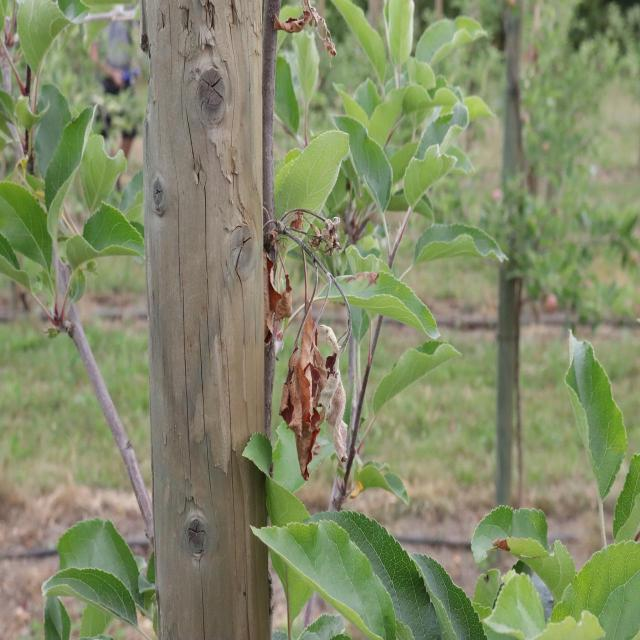-FireBlight-: (264, 197, 346, 474)
